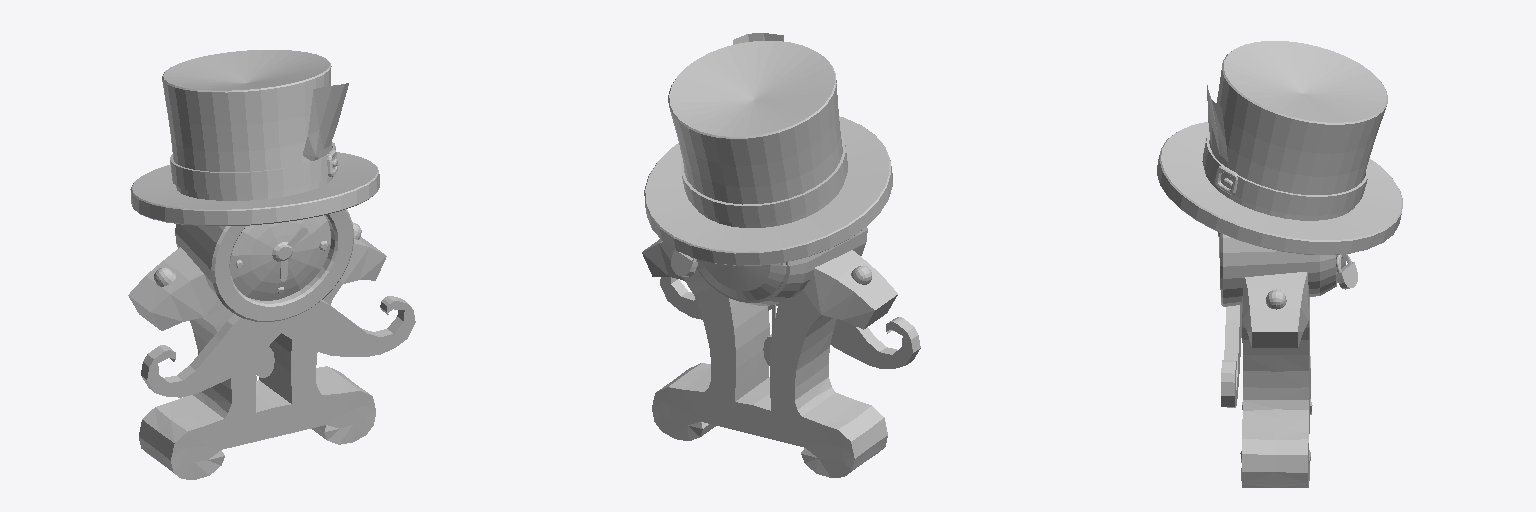
File: clock_obj.obj
The picture shows the model from 3 angles: view 1: azimuth 30°, elevation 25°; view 2: azimuth 150°, elevation 25°; view 3: azimuth 270°, elevation 25°; orthographic projection.
Parts seen in each view (by area): view 1: clock; view 2: clock; view 3: clock.
Part boxes in pixels (left/top/right/bottom): clock: left=128, top=50, right=415, bottom=479; clock: left=642, top=33, right=920, bottom=477; clock: left=1157, top=41, right=1402, bottom=487.
Bounding box in the file's own units: 4.64 × 6.5 × 3.79.